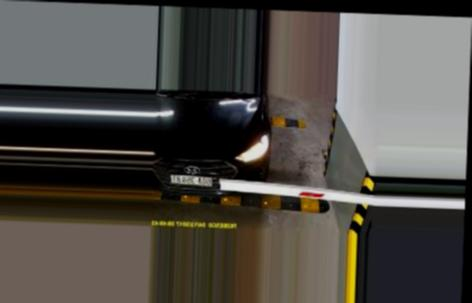License_Plate: (168, 173, 213, 187)
